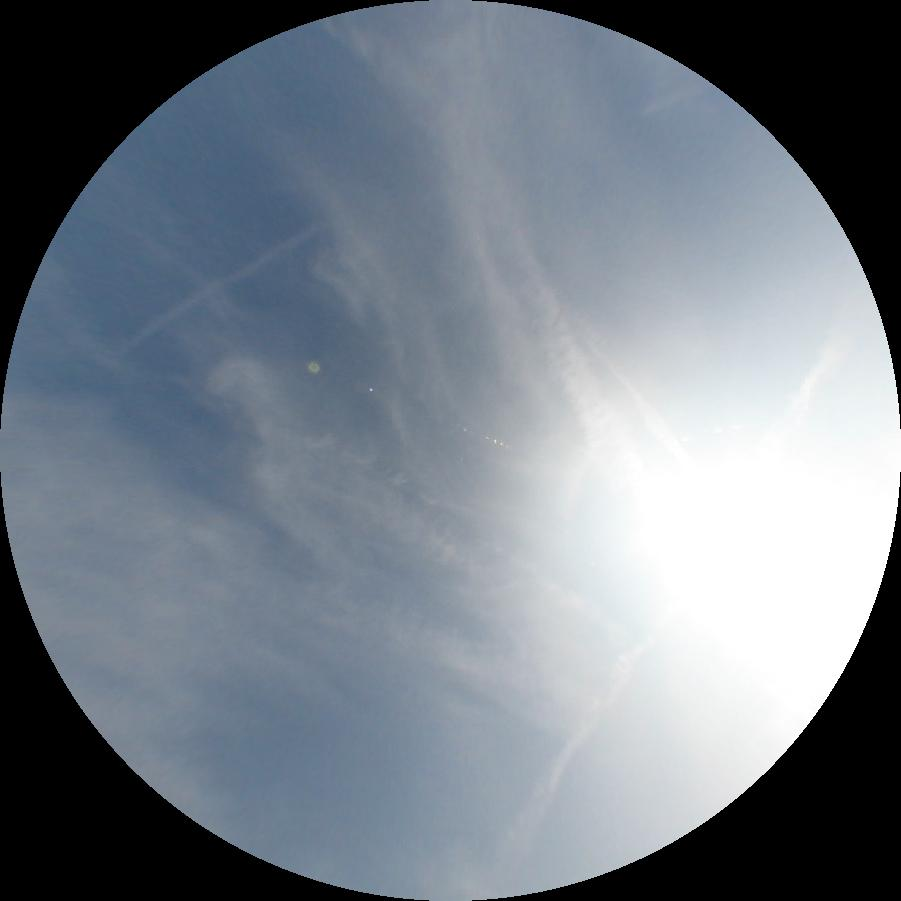contrail veryold: (486, 326, 858, 882), (324, 19, 642, 464), (205, 360, 638, 669), (209, 506, 594, 734), (122, 221, 327, 352), (560, 302, 696, 461)
sun: (638, 423, 899, 705)
